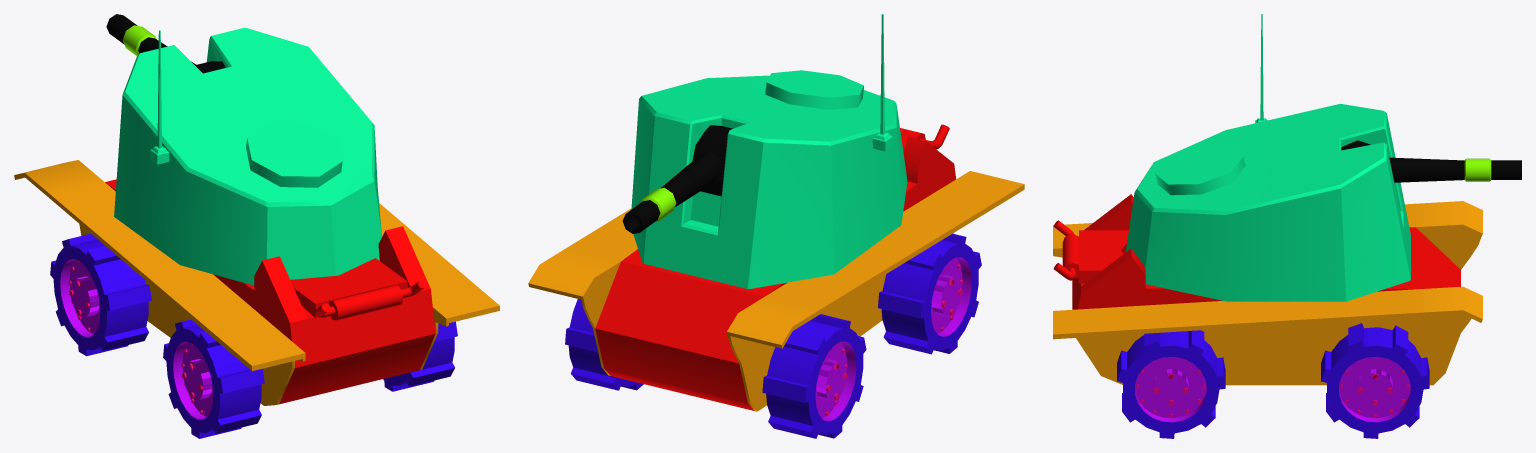
The model's file is 15cm SIG.33 auf Fgst.Pz.Kpfw.38(t) Ausf.H.fbx.
3 renders of one model, left to right at view 1: azimuth 30°, elevation 25°; view 2: azimuth 150°, elevation 25°; view 3: azimuth 270°, elevation 25°, orthographic. The views are drawn at different scales.
Parts seen in each view (by area): view 1: Turret, Body, BodySides, A12 Matilda CDL_Wheels002, A12 Matilda CDL_Wheels004, A12 Matilda CDL_Wheels001, Canon; view 2: Turret, BodySides, Body, A12 Matilda CDL_Wheels002, A12 Matilda CDL_Wheels004, Canon, A12 Matilda CDL_Wheels003, CanonPivotPoint; view 3: Turret, BodySides, Body, A12 Matilda CDL_Wheels003, A12 Matilda CDL_Wheels001, Canon.
Boxes of the visible parts, box(x1,y1,x2,y2) form: Turret: box(114, 27, 382, 285); Body: box(105, 179, 435, 404); BodySides: box(14, 160, 499, 405); A12 Matilda CDL_Wheels002: box(50, 233, 151, 356); A12 Matilda CDL_Wheels004: box(163, 319, 264, 438); A12 Matilda CDL_Wheels001: box(383, 321, 457, 391); Canon: box(106, 14, 196, 64); Turret: box(631, 14, 907, 288); BodySides: box(528, 171, 1024, 411); Body: box(595, 124, 955, 410); A12 Matilda CDL_Wheels002: box(762, 314, 866, 438); A12 Matilda CDL_Wheels004: box(878, 233, 981, 354); Canon: box(622, 151, 721, 233); A12 Matilda CDL_Wheels003: box(565, 299, 643, 390); CanonPivotPoint: box(692, 125, 732, 196); Turret: box(1125, 14, 1410, 301); BodySides: box(1053, 201, 1482, 385); Body: box(1053, 194, 1460, 309); A12 Matilda CDL_Wheels003: box(1321, 323, 1429, 438); A12 Matilda CDL_Wheels001: box(1117, 330, 1225, 438); Canon: box(1389, 157, 1521, 182).
Bounding box in the file's own units: 2.13 × 2.98 × 3.86.
